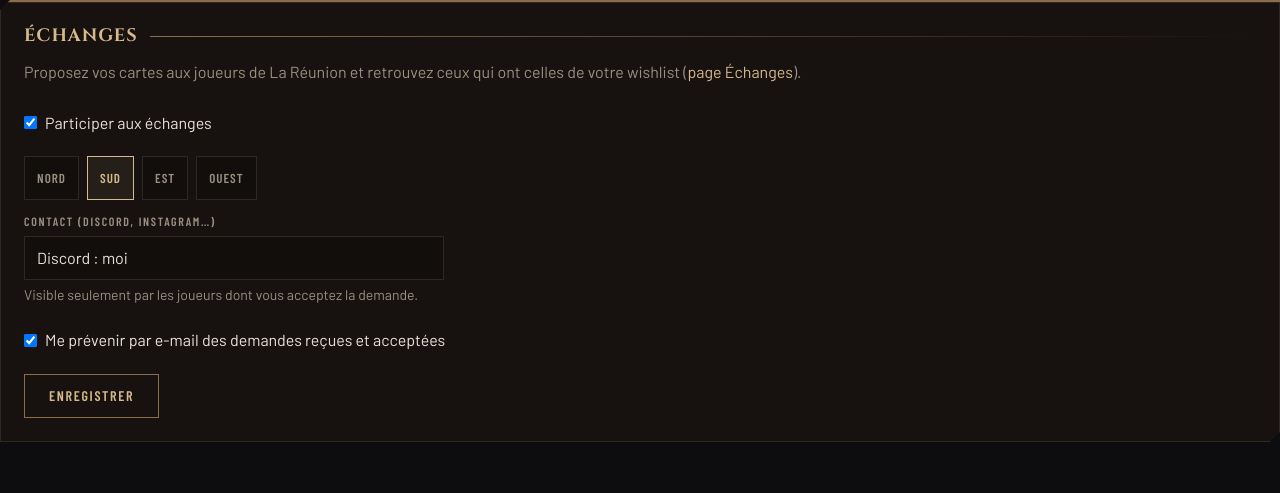
Test: ProfileTrades — désactivation › prévient que désactiver annule les demandes en attente
What coordinates should you click on to do the following:
click the checkbox named "trade_enabled"
I would click on:
 (30, 122)
Its box is [24, 116, 37, 129].
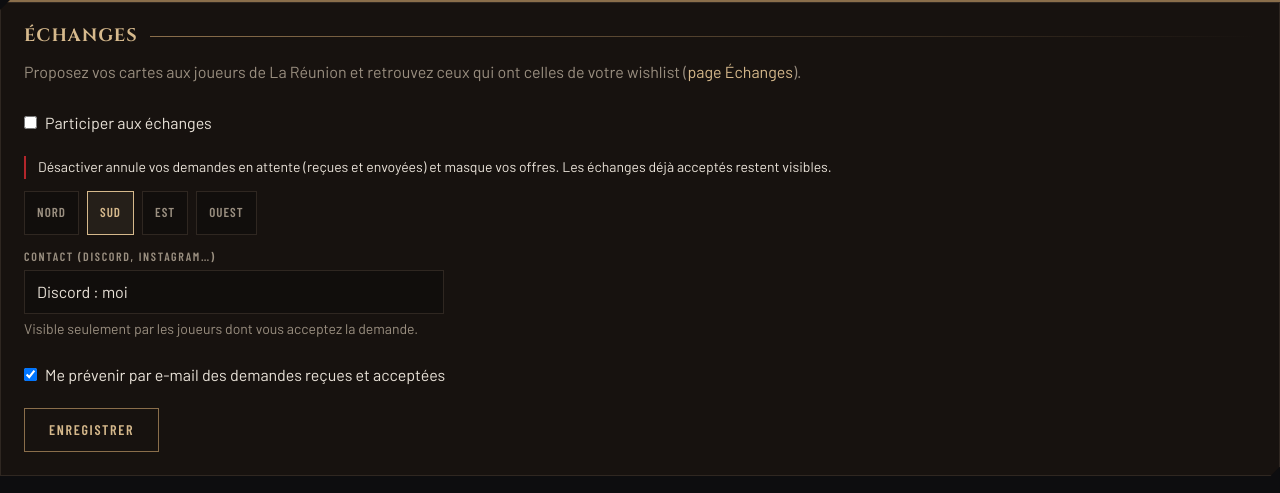
Expected: the message with class "echanges-alerte" shows "annule vos demandes en attente", [38, 158, 832, 176]
